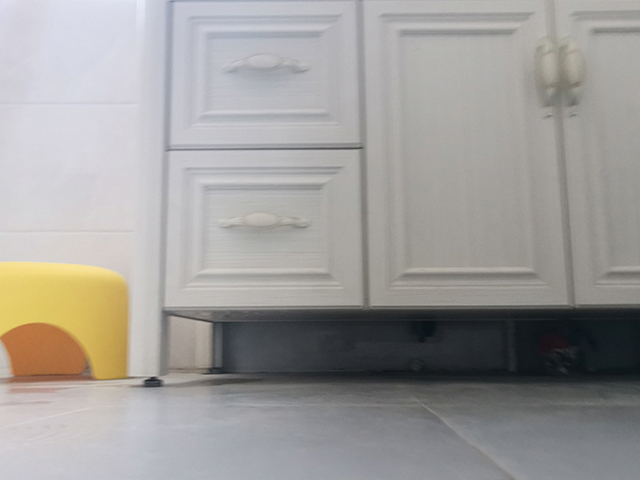cabinet: (140, 1, 640, 389)
stool: (1, 259, 131, 381)
